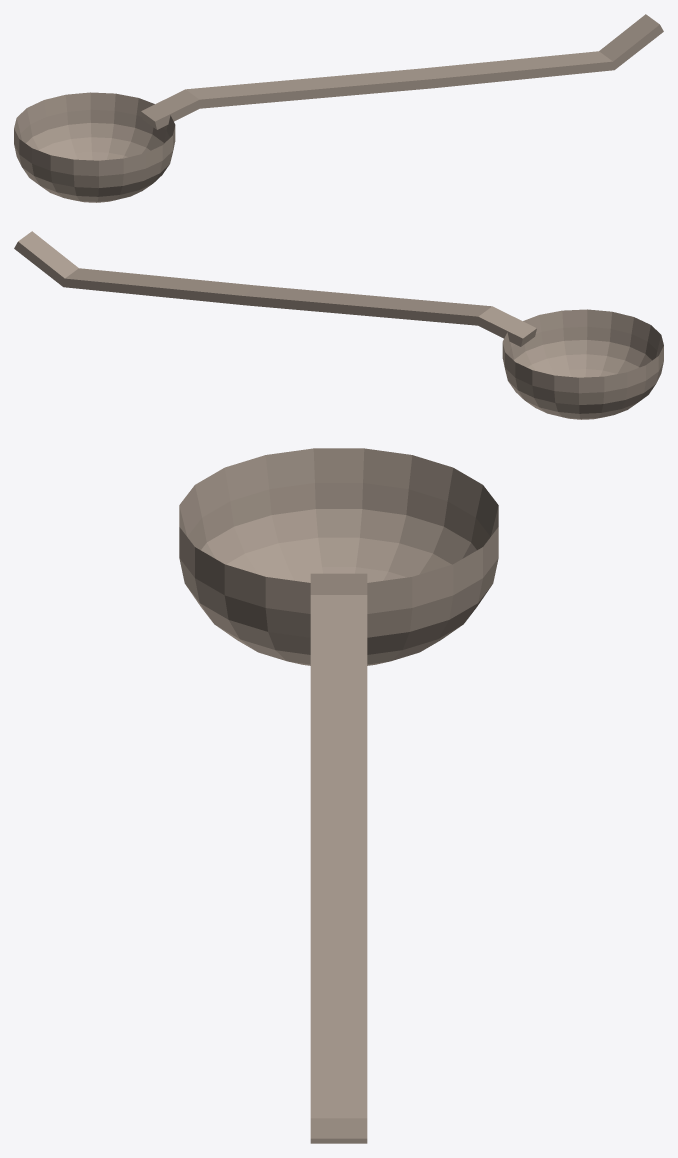
File: SM_Cook_LadleBig_01.fbx
3 views of the same model, one above another, from view 1: azimuth 30°, elevation 25°; view 2: azimuth 150°, elevation 25°; view 3: azimuth 270°, elevation 25° (orthographic). The views are drawn at different scales.
Parts seen in each view (by area): view 1: SM_Cook_LadleBig_01; view 2: SM_Cook_LadleBig_01; view 3: SM_Cook_LadleBig_01.
Boxes of the visible parts, bbox=[...] form: SM_Cook_LadleBig_01: bbox=[14, 14, 663, 202]; SM_Cook_LadleBig_01: bbox=[14, 231, 663, 419]; SM_Cook_LadleBig_01: bbox=[179, 448, 498, 1143].
Bounding box in the file's own units: 0.7213 × 0.081 × 0.158.
1 material, 1 textured.
